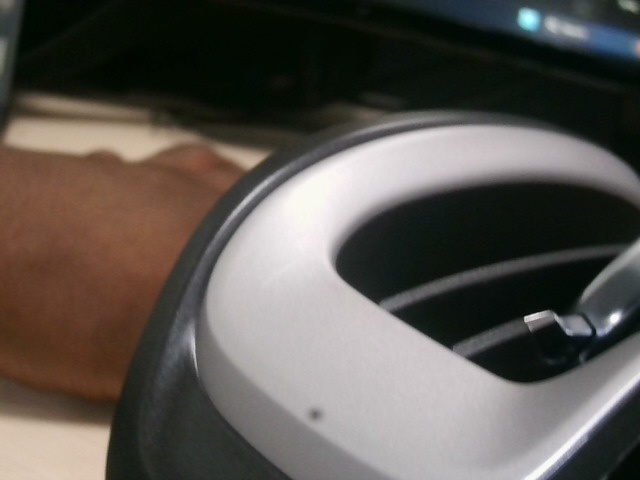NG: (248, 253, 294, 303)
